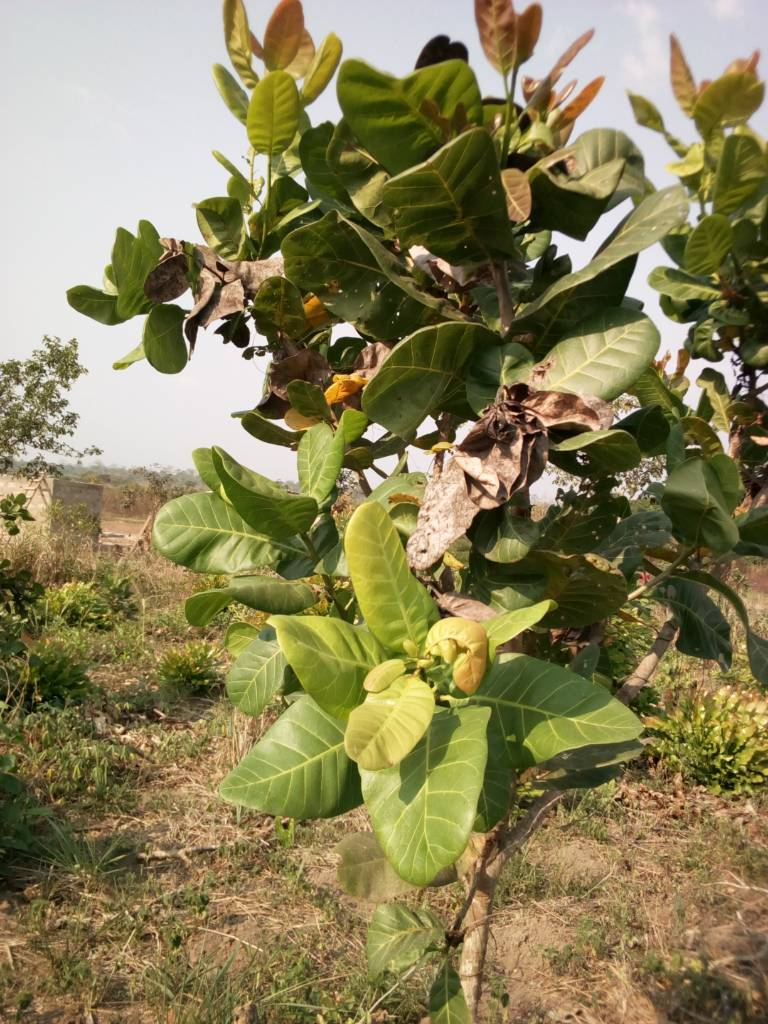Dessèchement des bourgeons: (482, 378, 526, 454)
